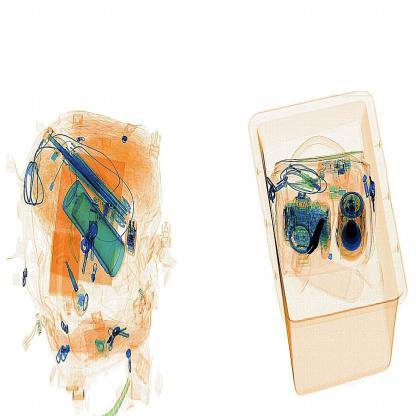knife: (310, 217, 320, 252)
